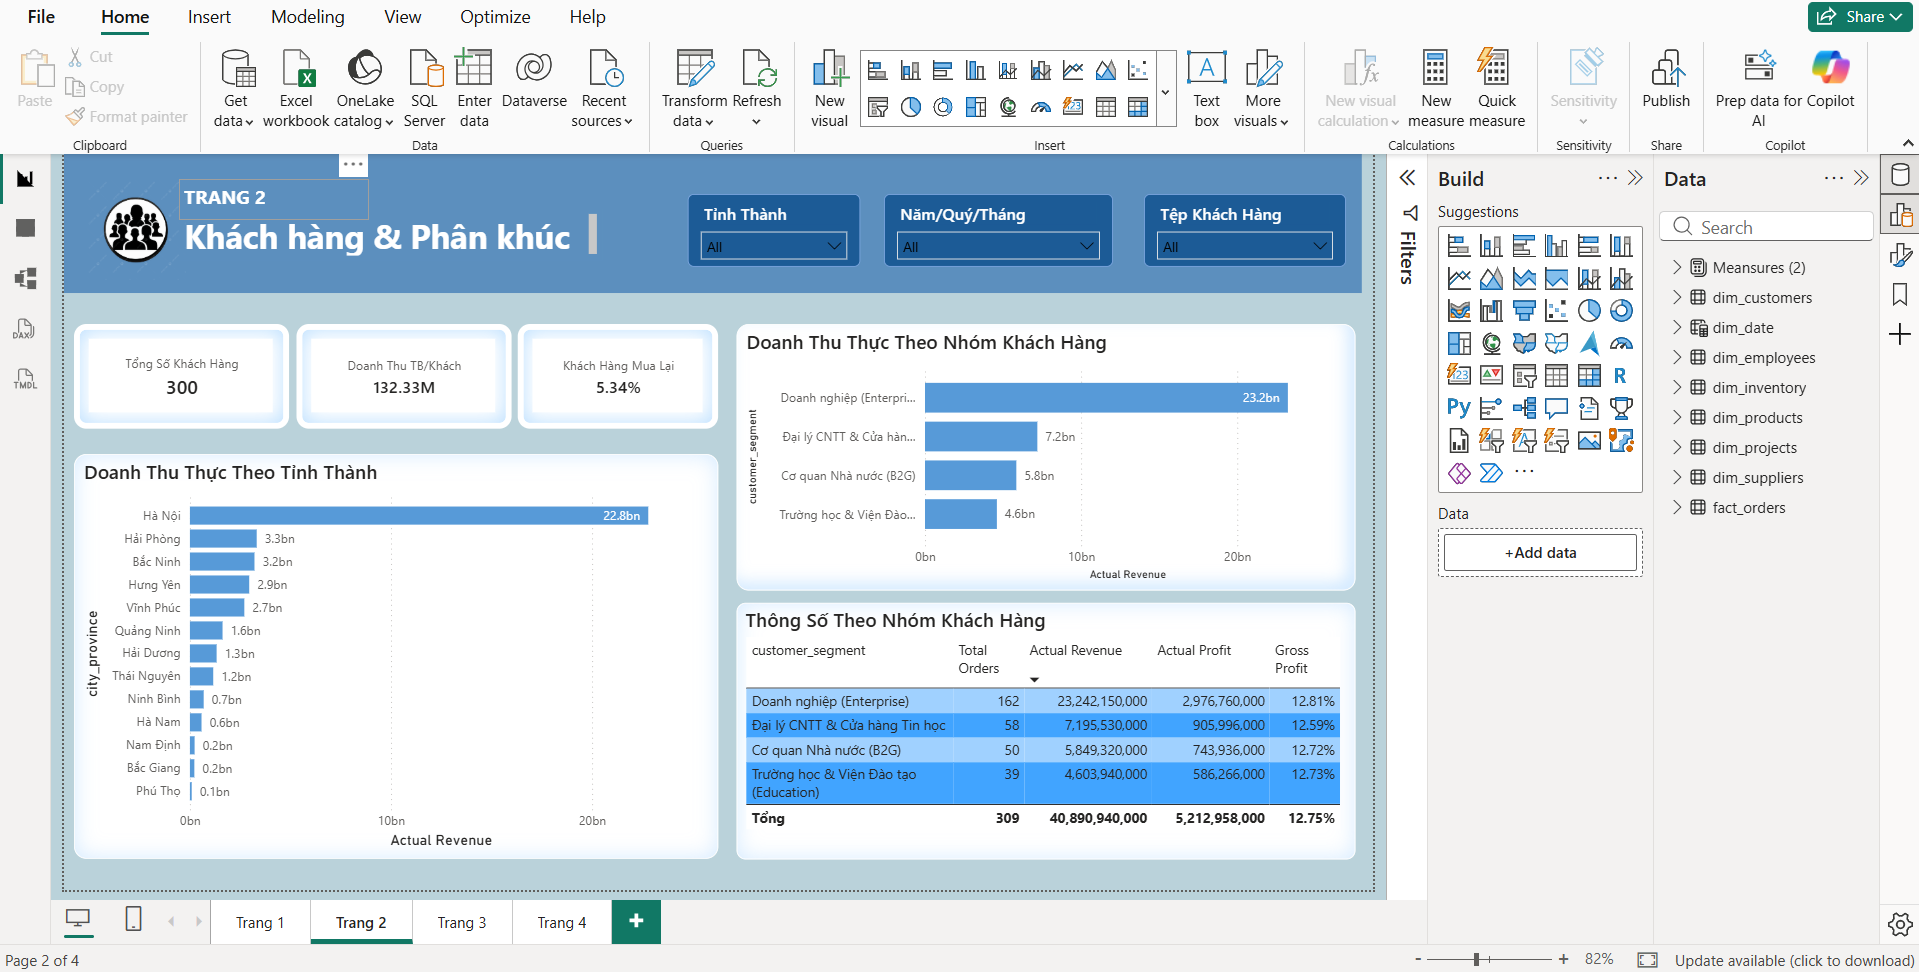

This screenshot's page, from the dashboard's own definition file:
{"tool":"powerbi","page":{"name":"Trang 2","canvas":[1280,720],"ordinal":1},"visuals":[{"type":"cardVisual","fields":{"Data":["Meansures (2).Total Customer"]},"box":[10,166.2,210,102.5],"z":0},{"type":"cardVisual","fields":{"Data":["Meansures (2).Returning Customers"]},"box":[443.8,166.2,196.2,102.5],"z":1000},{"type":"cardVisual","fields":{"Data":["Meansures (2).Average Customer"]},"box":[226.9,166.2,210,102.5],"z":2000},{"type":"textbox","box":[0,0,1269.3,135.7],"z":3000},{"type":"textbox","box":[112.5,53.4,414.1,50.5],"z":4000},{"type":"textbox","box":[112.5,24.5,186.1,40.4],"z":5000},{"type":"image","box":[18.8,24.5,103.9,98.1],"z":6000},{"type":"slicer","title":"Kênh bán ","fields":{"Values":["dim_customers.city_province"]},"box":[610,38.8,168.8,71.2],"z":7000},{"type":"slicer","title":"Kênh bán ","fields":{"Values":["dim_date.years","dim_date.quaters","dim_date.months"]},"box":[802.2,39.1,223.8,70.9],"z":8000},{"type":"slicer","title":"Kênh bán ","fields":{"Values":["dim_customers.customer_segment"]},"box":[1056.2,38.8,197.5,71.2],"z":9000},{"type":"clusteredBarChart","title":"Doanh Thu Thực Theo Nhóm Khách Hàng","fields":{"Category":["dim_customers.customer_segment"],"Y":["Meansures (2).Actual Revenue"]},"box":[657.9,165.9,606,261.1],"z":10000},{"type":"clusteredBarChart","title":"Doanh Thu Thực Theo Tỉnh Thành","fields":{"Category":["dim_customers.city_province"],"Y":["Meansures (2).Actual Revenue"]},"box":[10,293.8,630,396.2],"z":11000},{"type":"tableEx","title":"Thông Số Theo Nhóm Khách Hàng","fields":{"Values":["dim_customers.customer_segment","Meansures (2).Total Orders","Meansures (2).Actual Revenue","Meansures (2).Actual Profit","Meansures (2).Gross Profit"]},"box":[657.9,438.6,606,251],"z":12000}]}

Visuals, with their boxes on the page's 1280x720 design canvas (x1, y1, x2, y2). These are canvas units, not pixel positions in the 1919x972 screenshot, which may show the page scaled, cropped or inside an application window:
cardVisual - Meansures (2).Total Customer: (left=10, top=166, right=220, bottom=269)
cardVisual - Meansures (2).Returning Customers: (left=444, top=166, right=640, bottom=269)
cardVisual - Meansures (2).Average Customer: (left=227, top=166, right=437, bottom=269)
textbox: (left=0, top=0, right=1269, bottom=136)
textbox: (left=112, top=53, right=527, bottom=104)
textbox: (left=112, top=24, right=299, bottom=65)
image: (left=19, top=24, right=123, bottom=123)
"Kênh bán " slicer: (left=610, top=39, right=779, bottom=110)
"Kênh bán " slicer: (left=802, top=39, right=1026, bottom=110)
"Kênh bán " slicer: (left=1056, top=39, right=1254, bottom=110)
"Doanh Thu Thực Theo Nhóm Khách Hàng" clusteredBarChart: (left=658, top=166, right=1264, bottom=427)
"Doanh Thu Thực Theo Tỉnh Thành" clusteredBarChart: (left=10, top=294, right=640, bottom=690)
"Thông Số Theo Nhóm Khách Hàng" tableEx: (left=658, top=439, right=1264, bottom=690)
